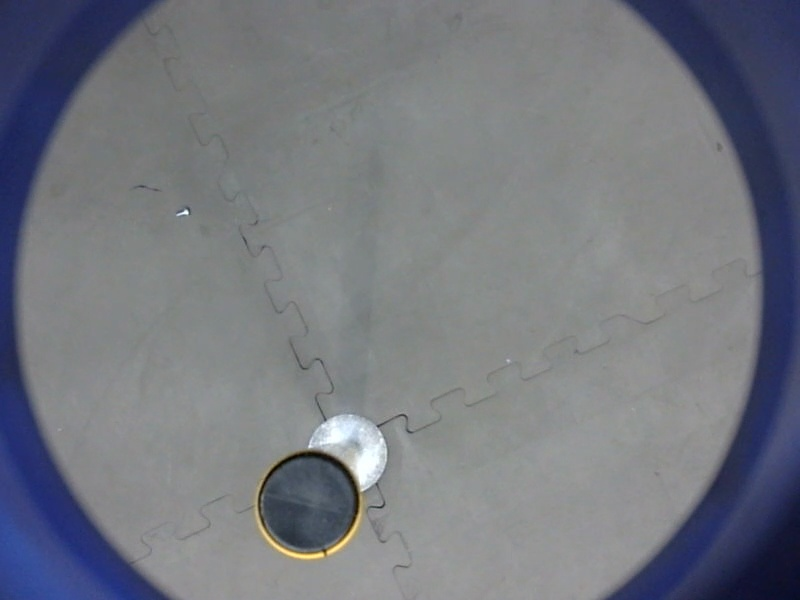tip: (246, 445, 371, 566)
